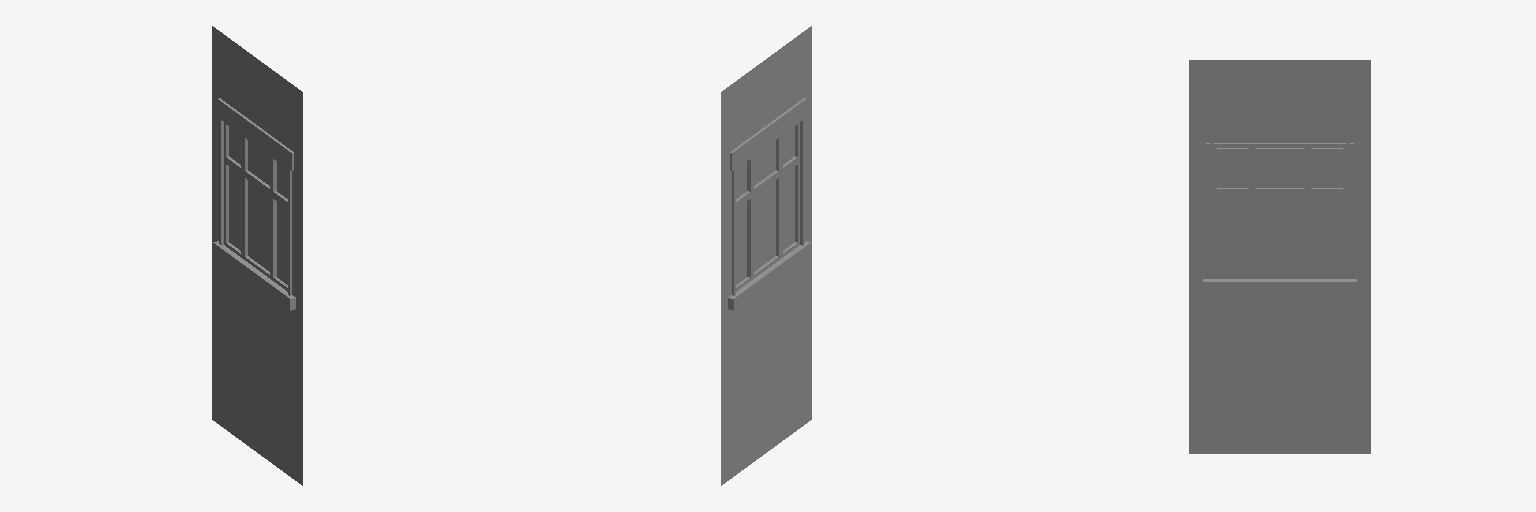
File: Window4.obj
3 views of the same model, side by side, from view 1: azimuth 30°, elevation 25°; view 2: azimuth 150°, elevation 25°; view 3: azimuth 270°, elevation 25° (orthographic).
Visible parts, largest first — view 1: Window4; view 2: Window4; view 3: Window4.
Boxes of the visible parts, x1,y1,x2,y2 form: Window4: [212, 26, 302, 485]; Window4: [721, 26, 811, 485]; Window4: [1189, 60, 1370, 453].
Size of the model in its own units: 0.0686 by 3 by 1.25.